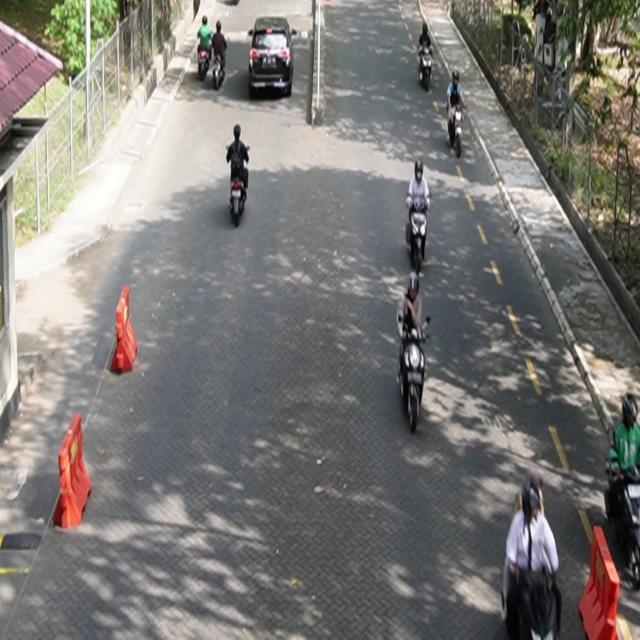car: (248, 17, 298, 99)
